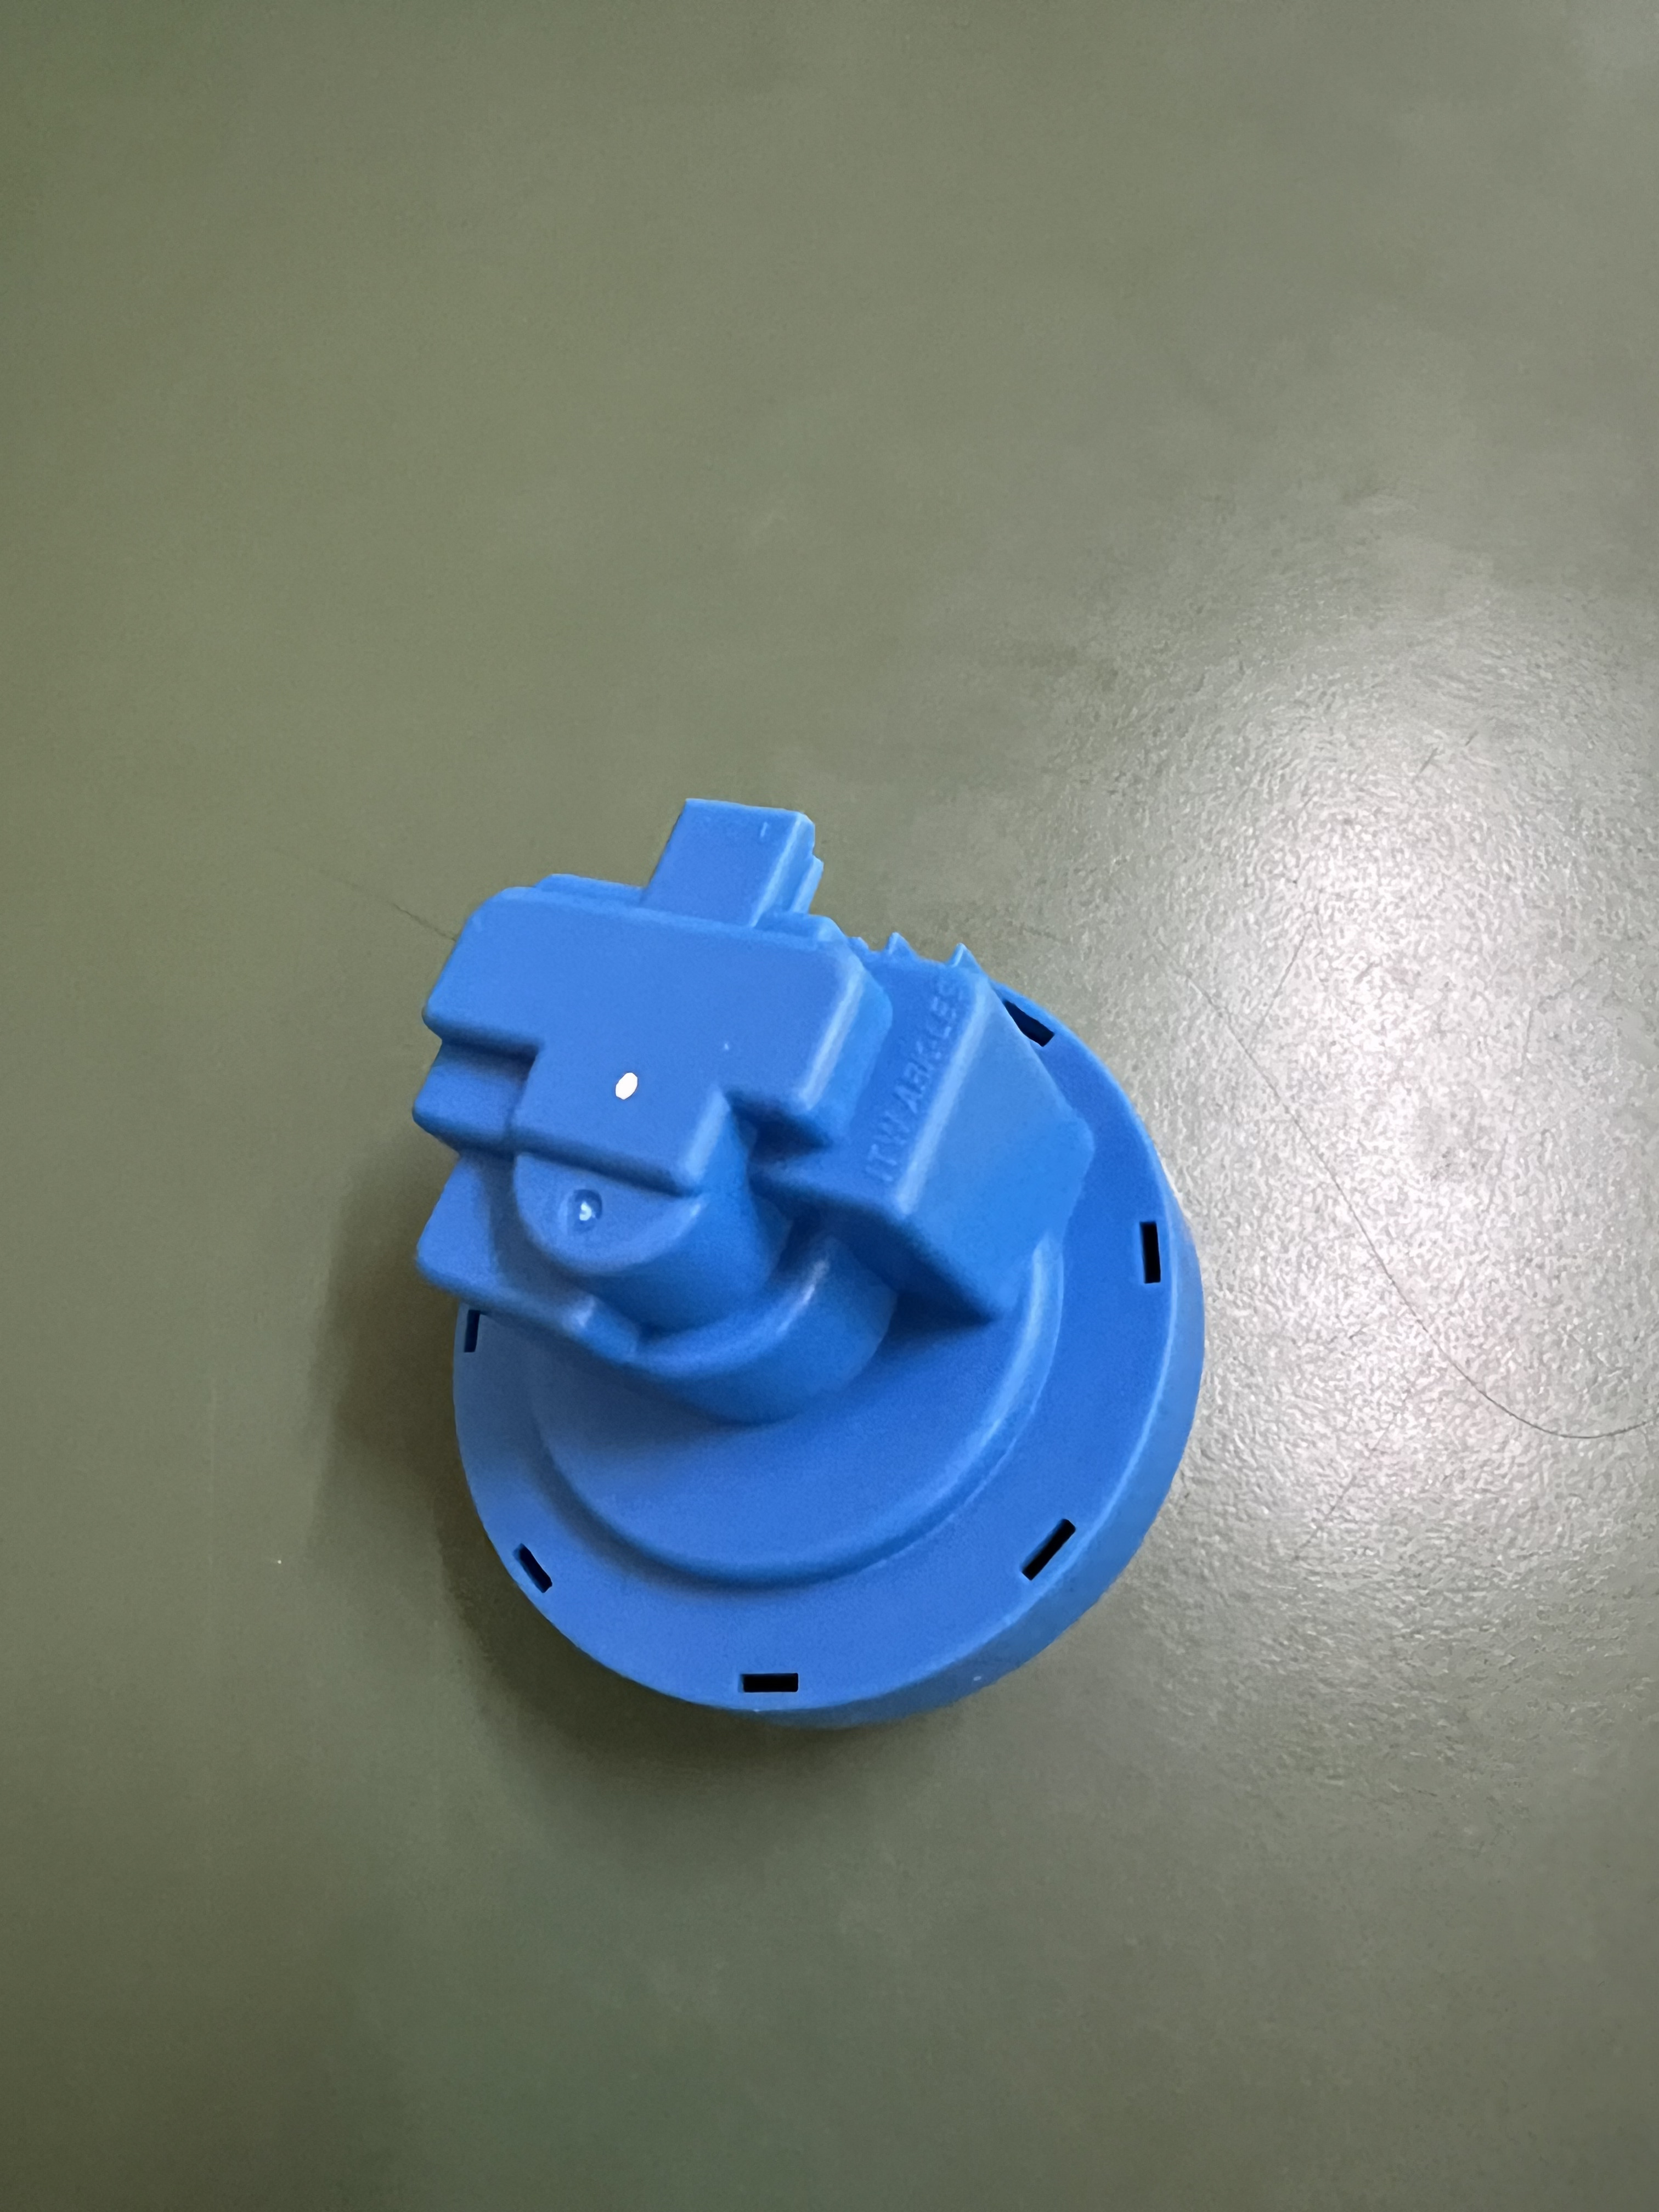voltas_beko_pressure_switch: (338, 773, 1230, 1730)
